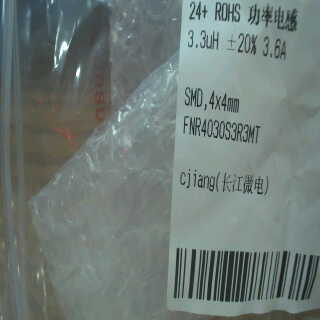3.3uH: (187, 22, 221, 52)
